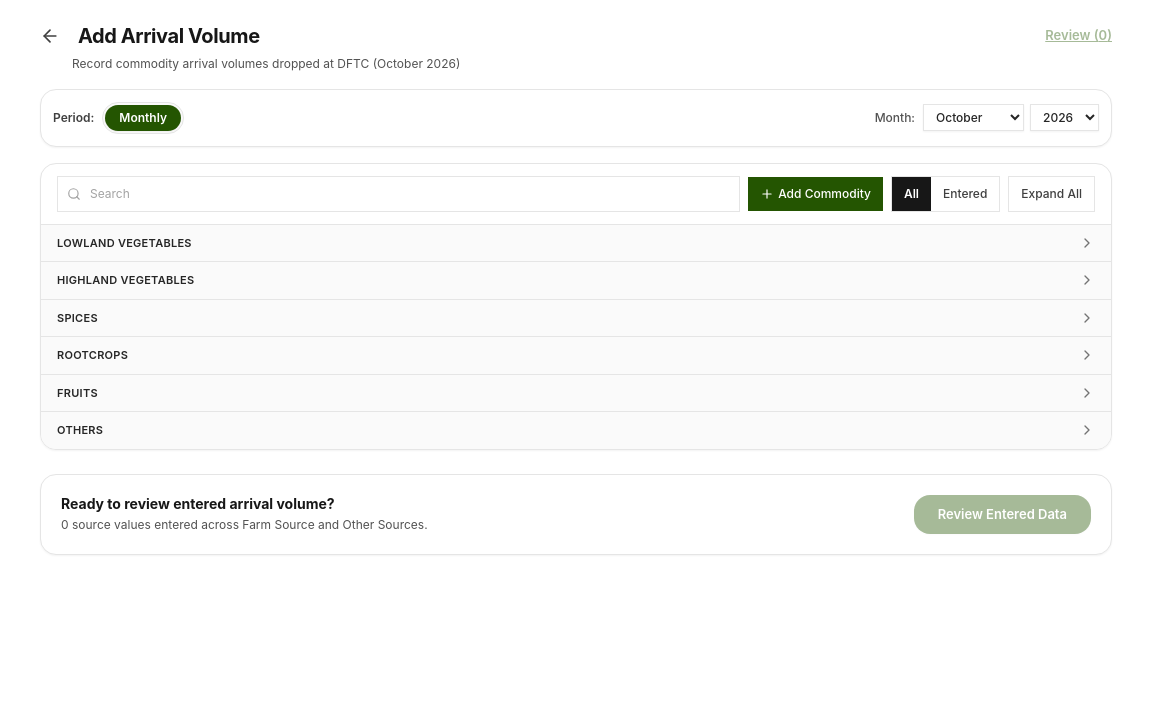
Test case: DFTCArrivalInput rows gained from the DB catalogue › renders a variety the static mirror does not have
The image size is (1152, 720).
Click the button "Lowland Vegetables".
click(124, 242)  # box [41,224,1111,261]
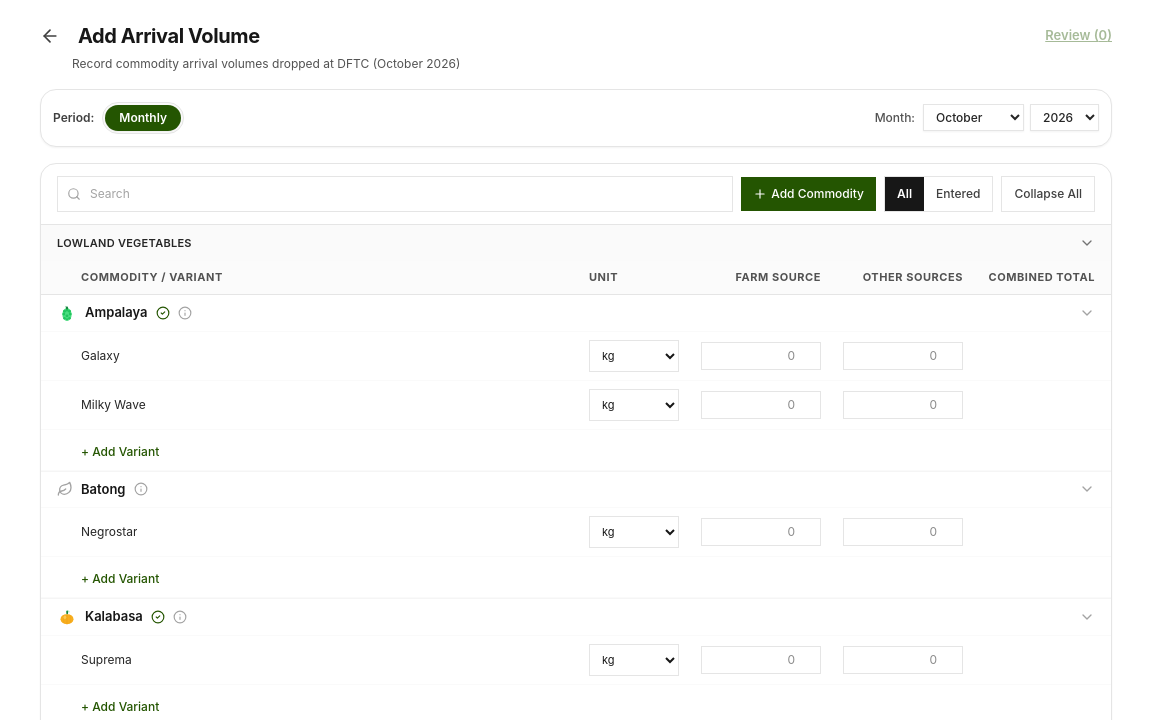
Now the text "Milky Wave" is shown, box [81,396,146,414]
Now the number of number fields with placeholder "0" is 8
